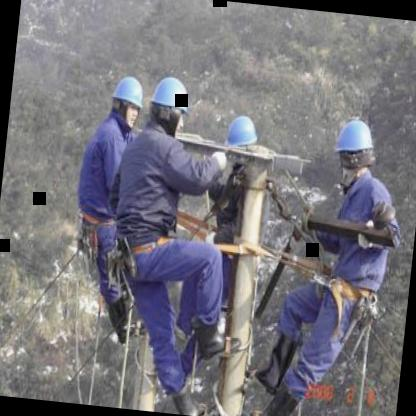helmet: (328, 112, 382, 183), (142, 70, 196, 141), (219, 110, 262, 172), (107, 73, 147, 130)
